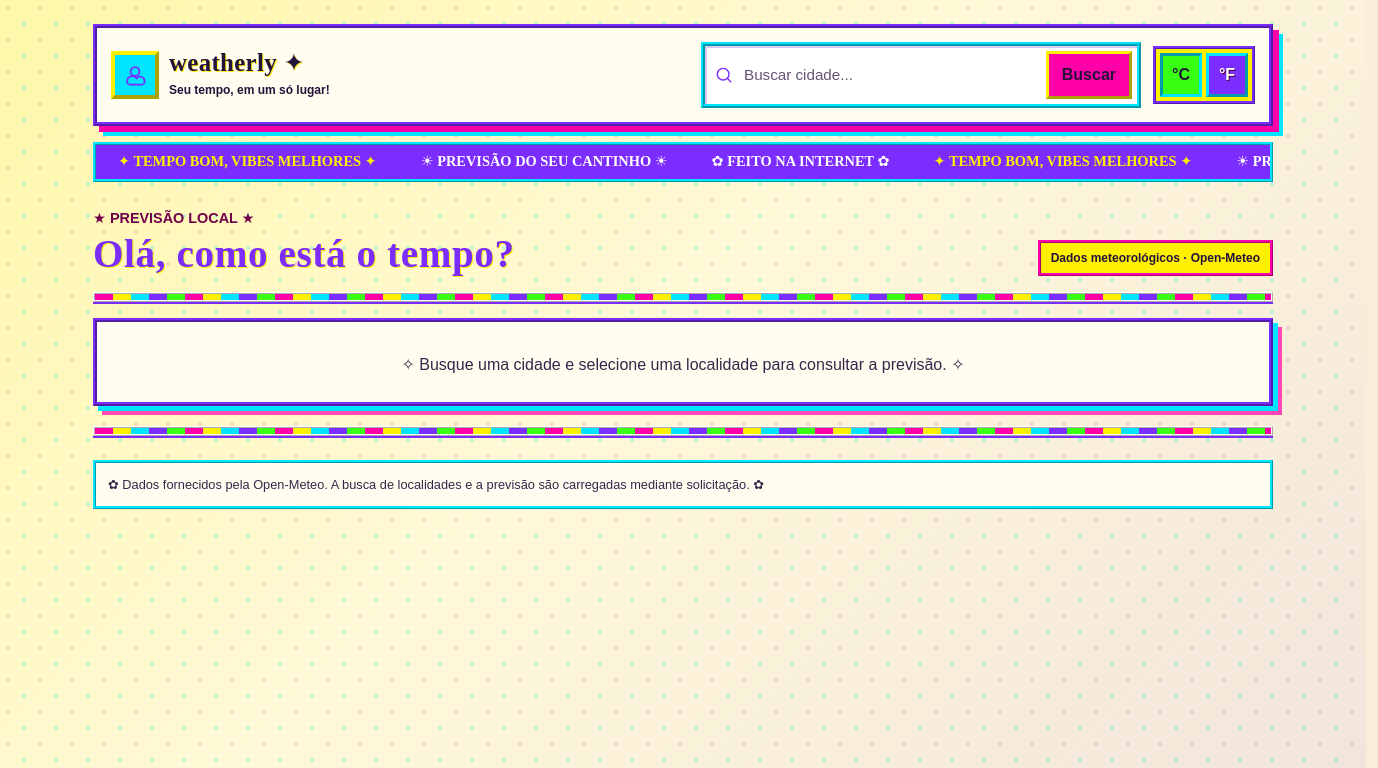
Test case: App integration › offers retry for a failed real request and distinguishes empty results
Type "Recife" into the search field labelled "Buscar cidade" at (890, 75), box [741,55,1039,95]
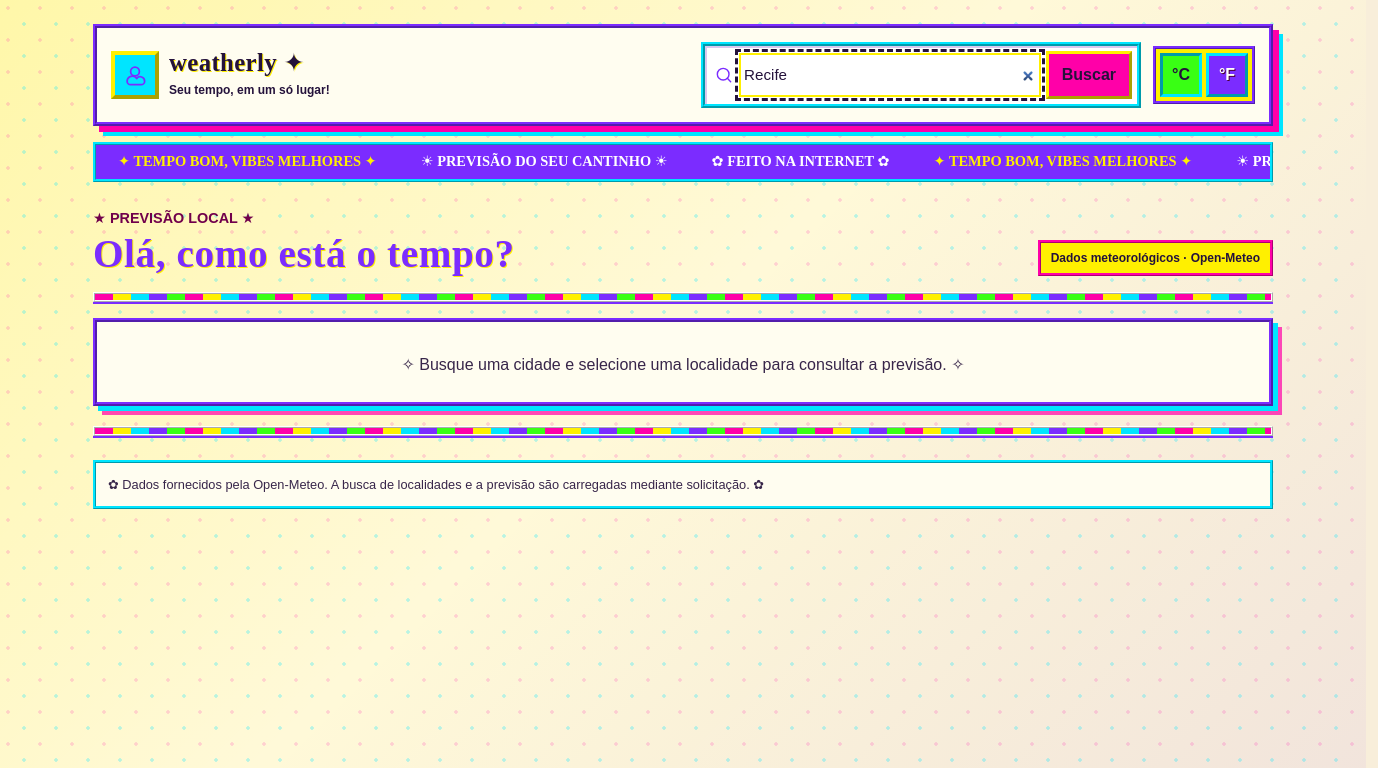
Click the button "Buscar" at (1089, 75), box [1046,51,1132,99]
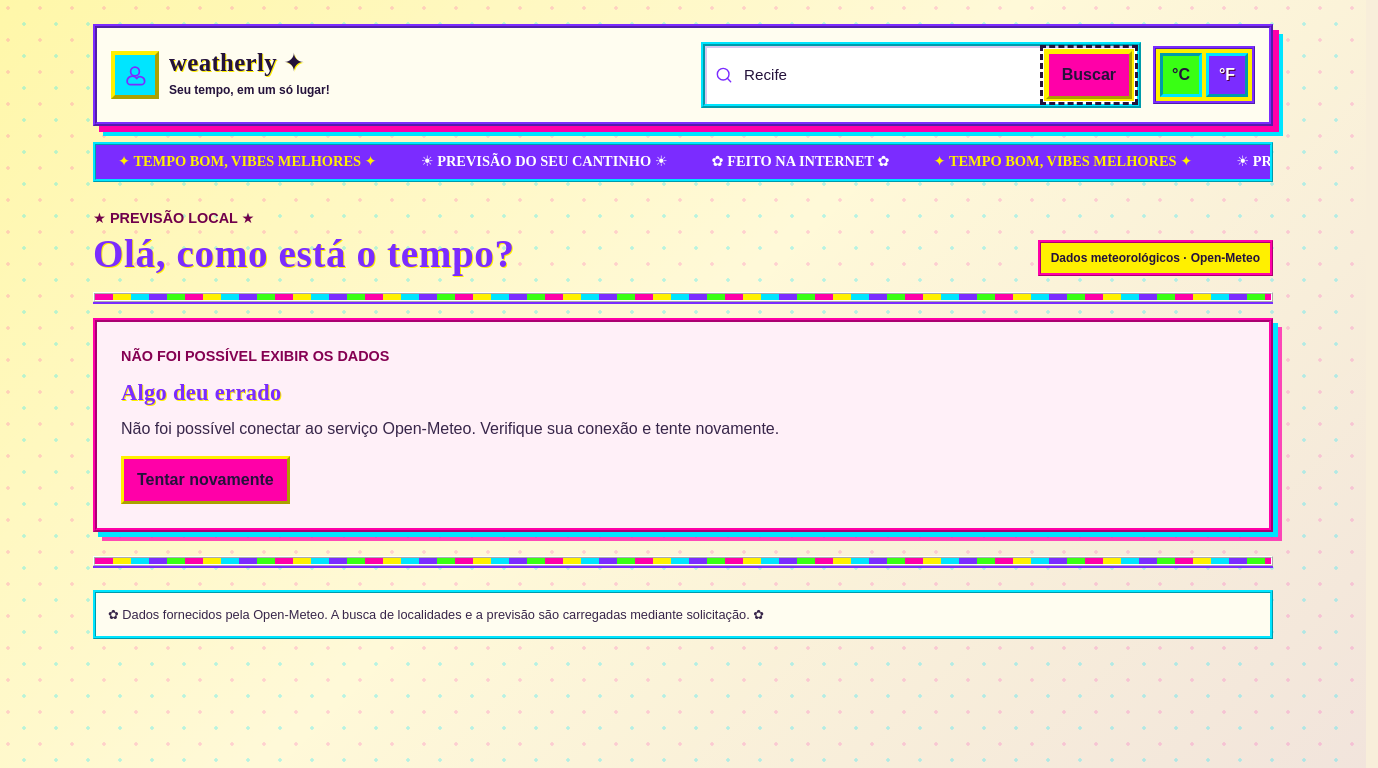
Expected: the message shows "Não foi possível conectar ao serviço Open-Meteo.", [121,420,779,437]
Click the button "Tentar novamente" at (205, 480), box [121,456,290,504]
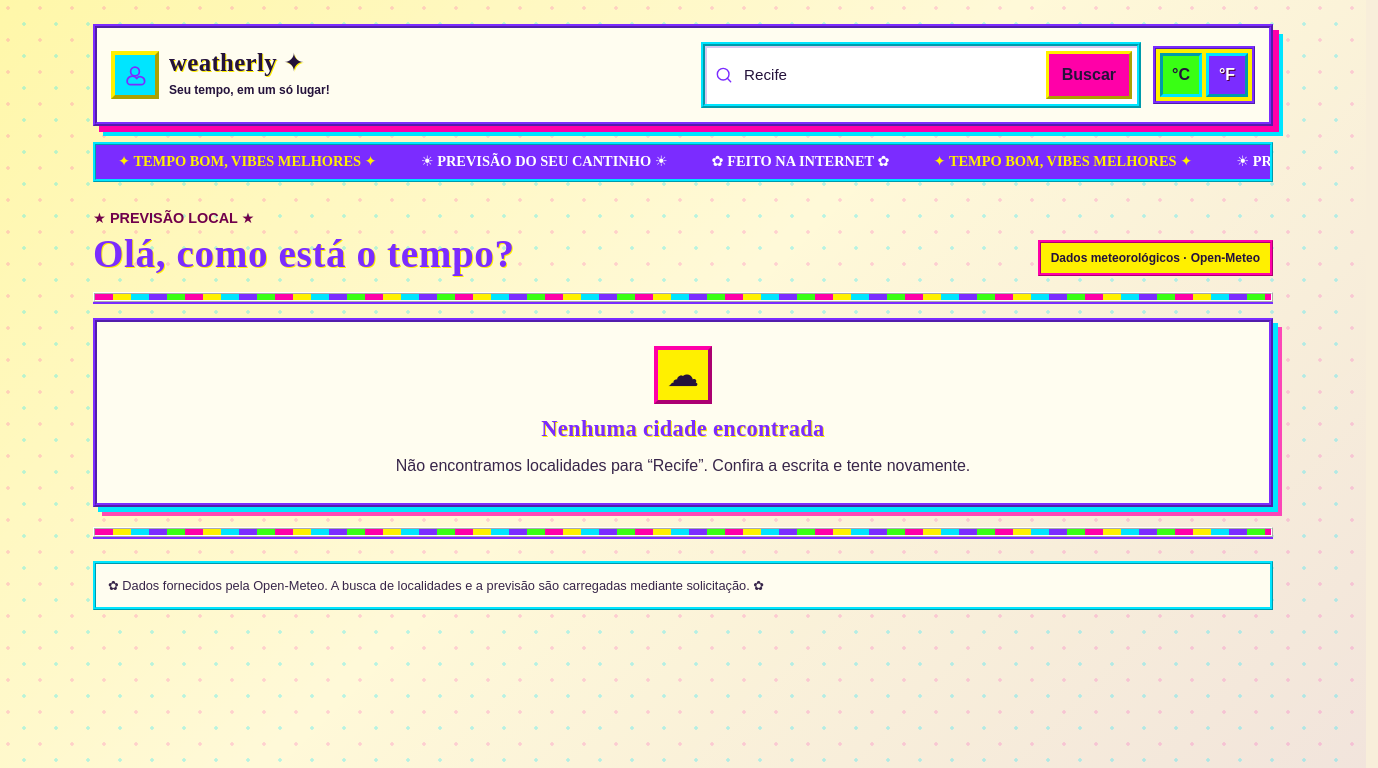
Expected: the message shows "Nenhuma cidade encontrada", [541,416,825,441]
